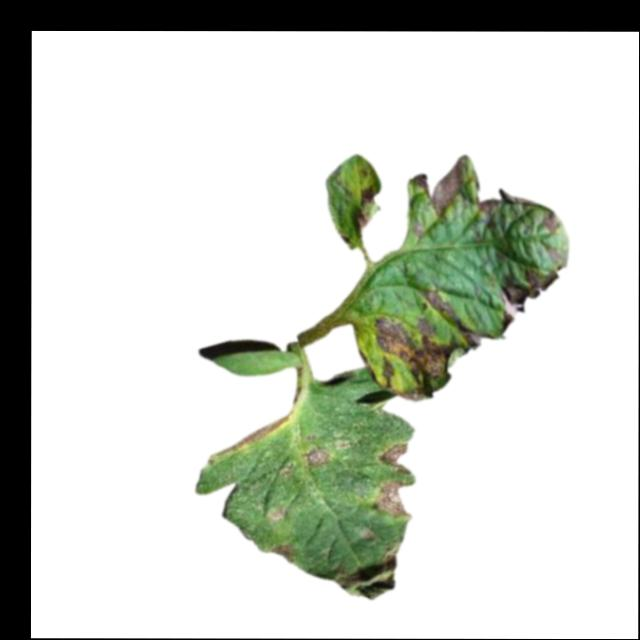Early_blight: (370, 290, 496, 402), (500, 265, 560, 324), (407, 158, 462, 220), (338, 558, 397, 601), (227, 414, 289, 454), (475, 188, 530, 218), (374, 479, 410, 522), (351, 187, 375, 233), (382, 443, 410, 476), (540, 210, 561, 238), (267, 543, 292, 564), (306, 445, 326, 467)
